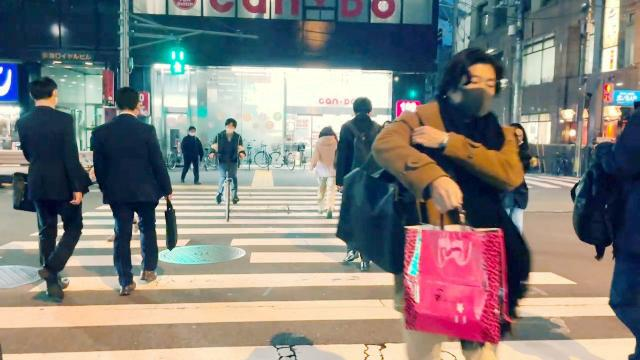berjalan: (368, 48, 524, 360), (91, 84, 177, 296), (14, 78, 90, 300), (310, 128, 342, 226)
